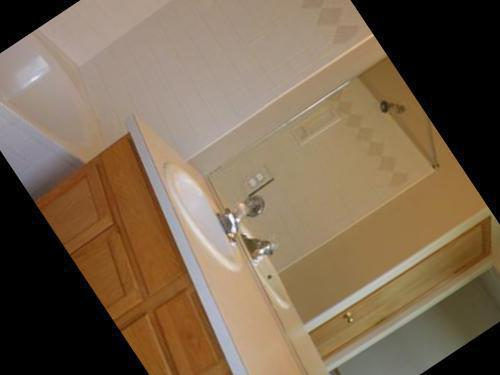Lavamanos: (137, 132, 286, 289)
